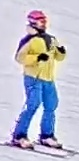skier: (0, 10, 79, 157)
